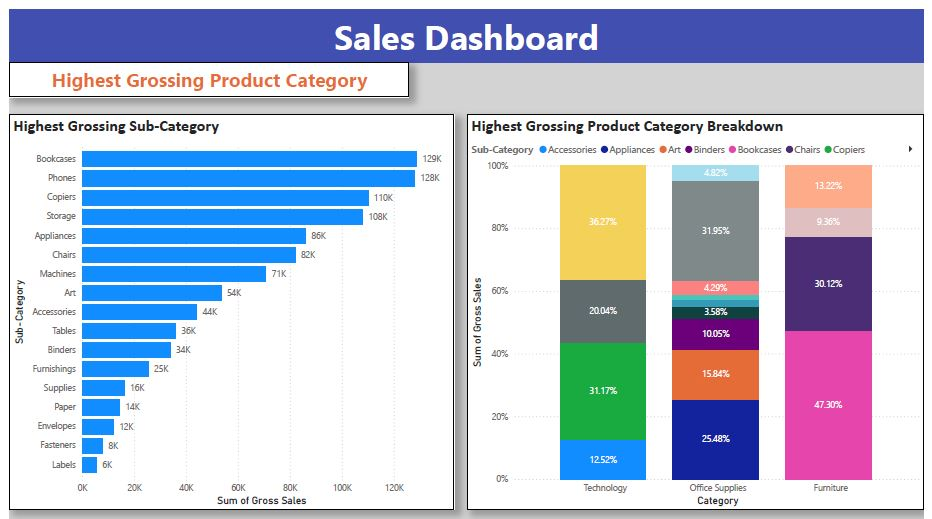

What the dashboard file says about the page in this screenshot:
{"tool":"powerbi","page":{"name":"Highest Grossing Category","canvas":[1280,720],"ordinal":1},"visuals":[{"type":"clusteredBarChart","title":"Highest Grossing Sub-Category","fields":{"Category":["Table3.Sub-Category"],"Y":["Sum(Table3.Gross Sales)"]},"box":[0,146.8,622.9,553.2],"z":0},{"type":"hundredPercentStackedColumnChart","title":"Highest Grossing Product Category Breakdown","fields":{"Category":["Table3.Category"],"Y":["Sum(Table3.Gross Sales)"],"Series":["Table3.Sub-Category"]},"box":[640.7,146.8,639.3,553.2],"z":1000},{"type":"textbox","box":[0,0,1280,74.2],"z":2000},{"type":"textbox","box":[0,74.2,559.2,48.9],"z":3000}]}

Visuals, with their boxes in screenshot pixels (x1, y1, x2, y2), scaled from the page's 1280x720 canvas onto the 932x519 screenshot:
"Highest Grossing Sub-Category" clusteredBarChart: [0, 106, 454, 505]
"Highest Grossing Product Category Breakdown" hundredPercentStackedColumnChart: [467, 106, 931, 505]
textbox: [0, 0, 931, 53]
textbox: [0, 53, 407, 89]
